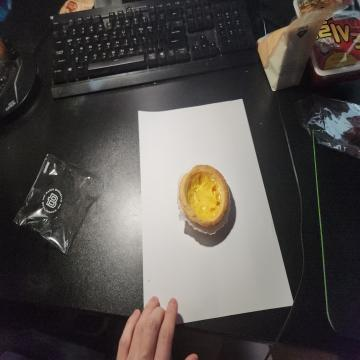EggTart: (178, 164, 230, 228)
